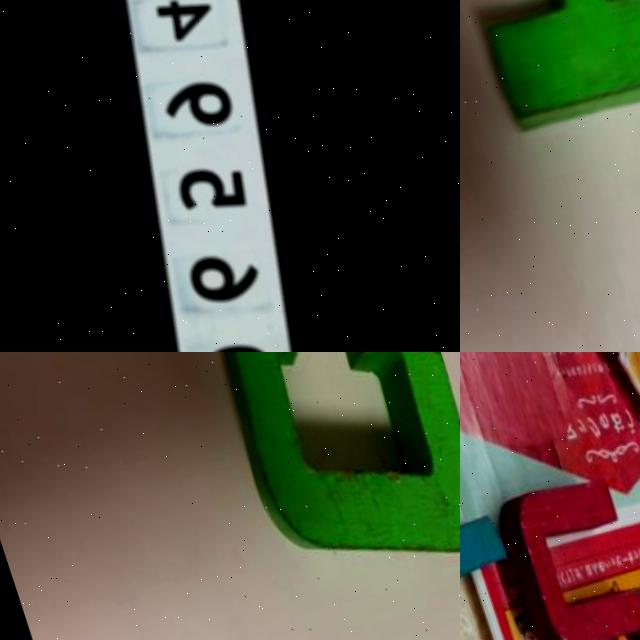0: (181, 305, 294, 352)
4: (137, 0, 236, 60)
5: (160, 135, 268, 236)
6: (169, 218, 286, 328)
9: (144, 47, 255, 152)
C: (193, 352, 460, 598)
F: (460, 0, 640, 146)
U: (493, 451, 640, 640)
V: (460, 378, 518, 626)
